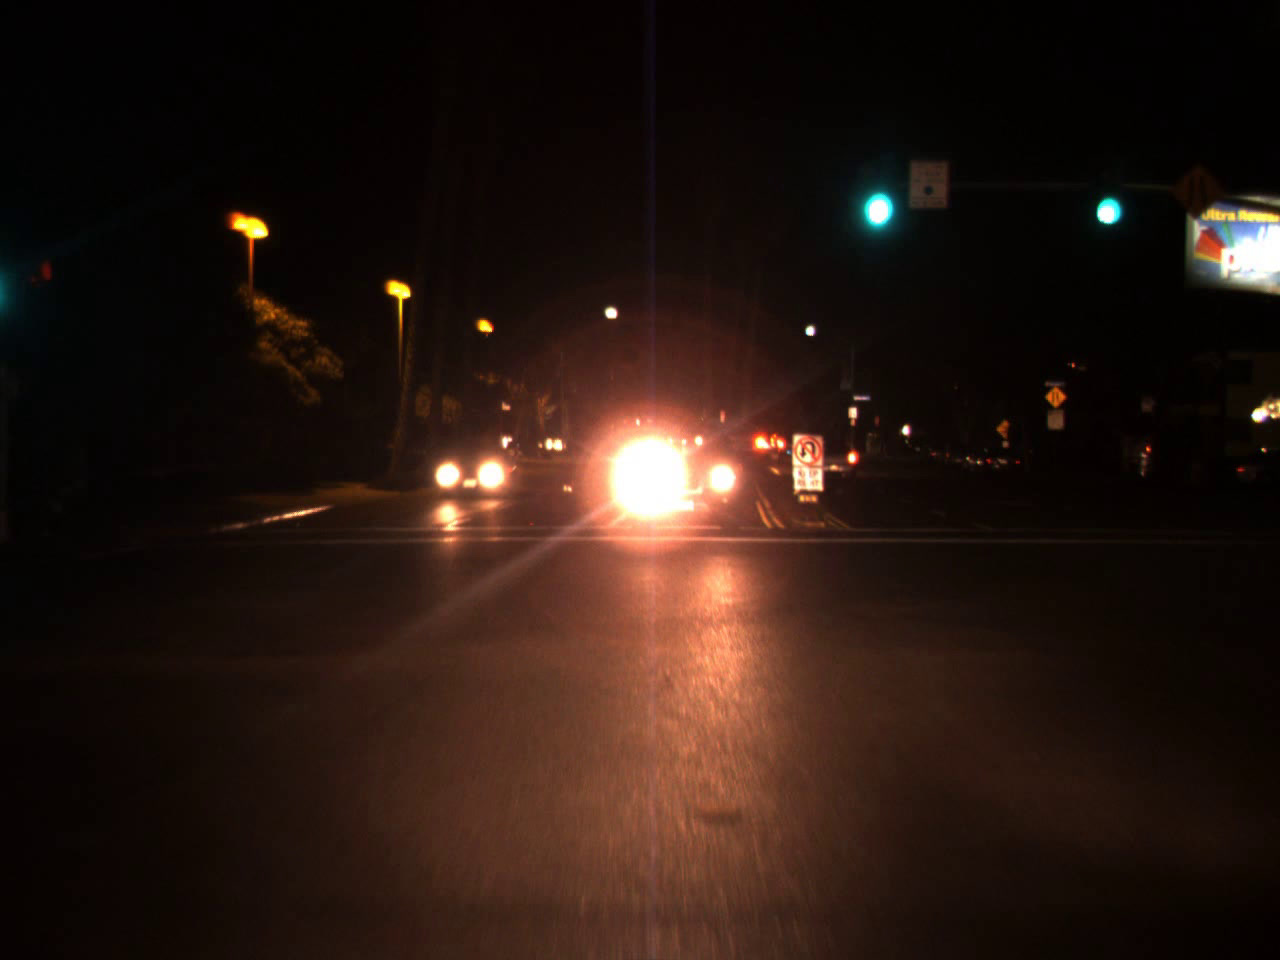go: (854, 153, 895, 240), (1087, 165, 1126, 234)
